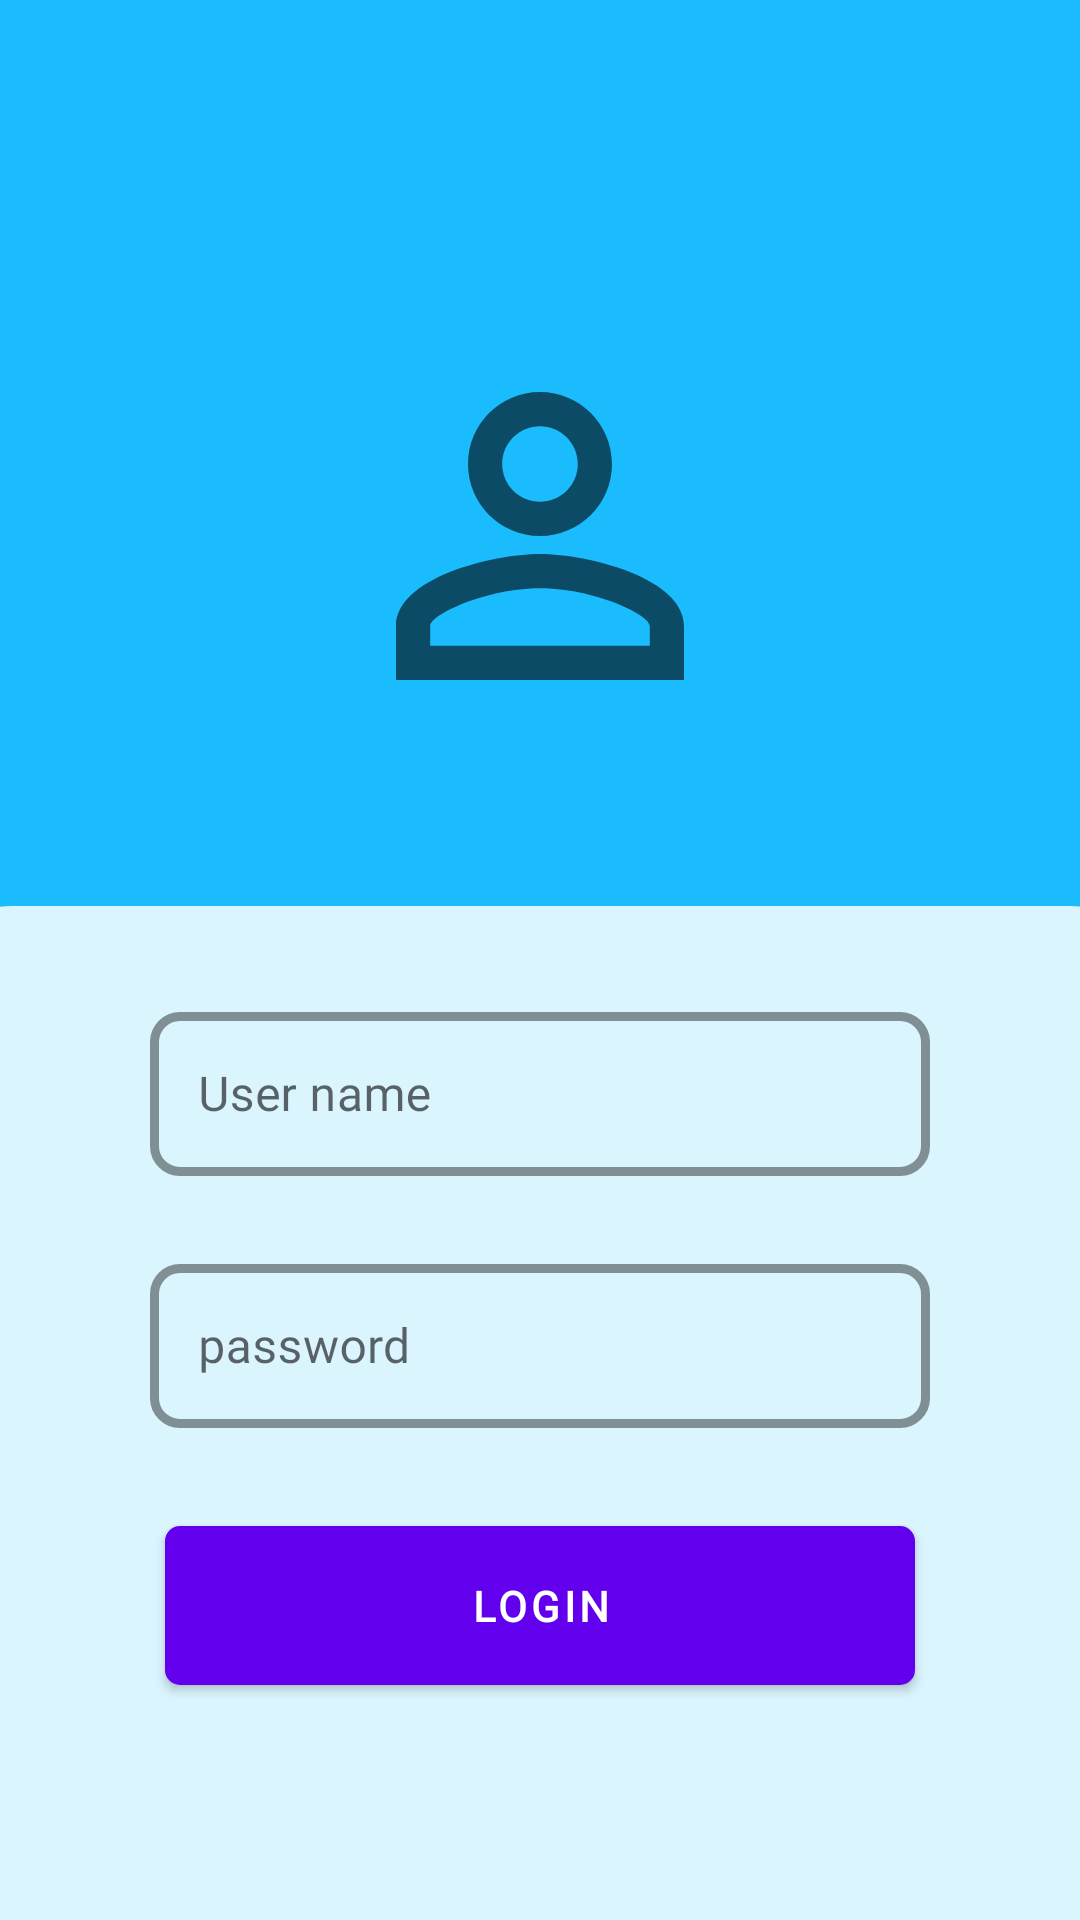

Where to tap for icons on this 1080 × 1920 app screen, as point (x, y):
person: point (540, 536)
